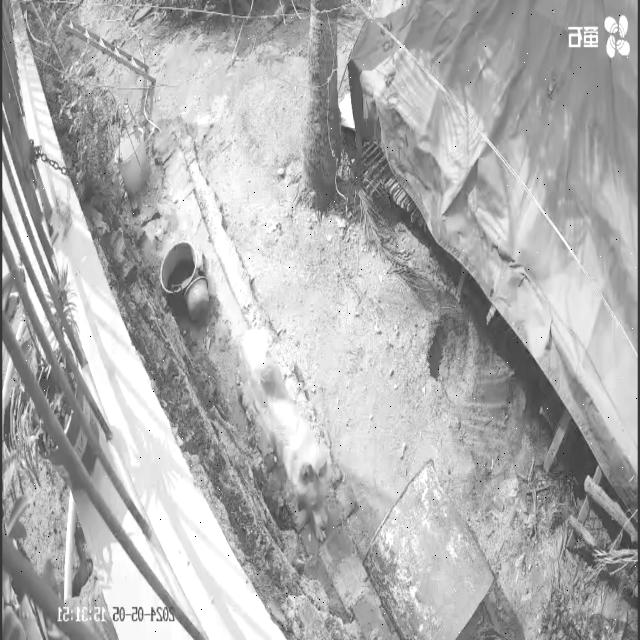dog: (243, 354, 332, 544)
